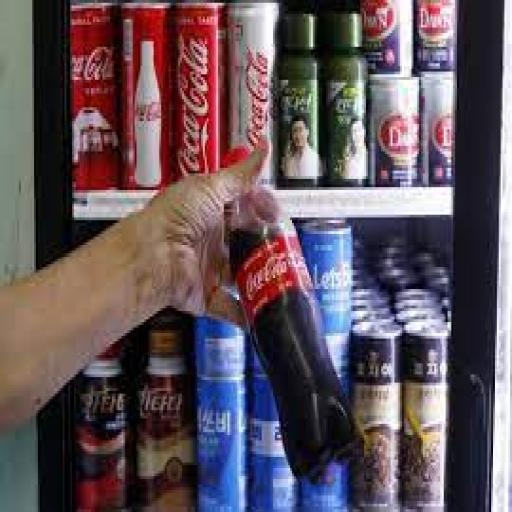Coca: (120, 0, 175, 199), (172, 0, 224, 194), (70, 0, 122, 193)
